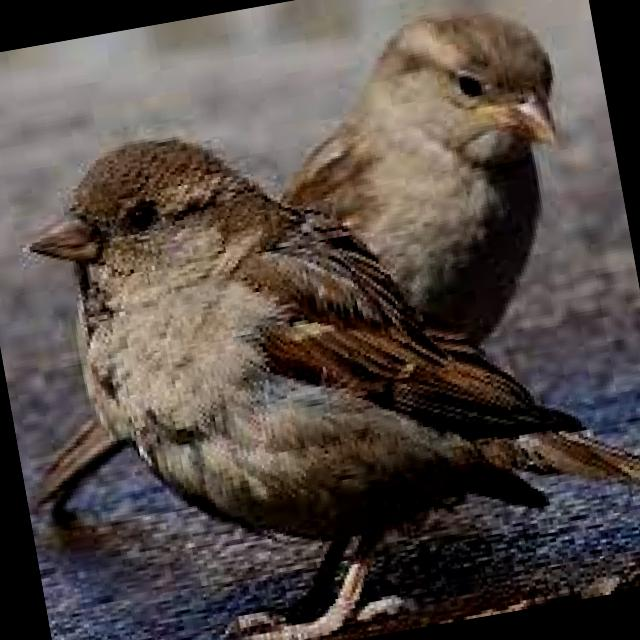bird: (0, 54, 640, 640), (247, 0, 598, 375)
